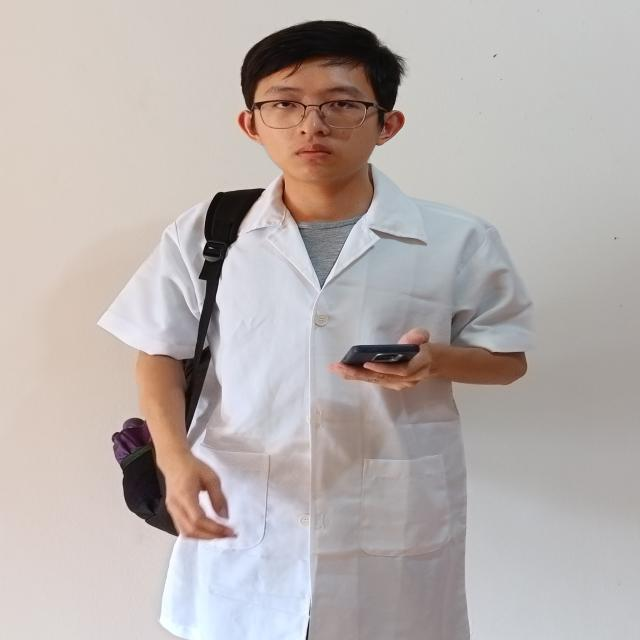person_with_labcoat: (99, 21, 531, 640)
